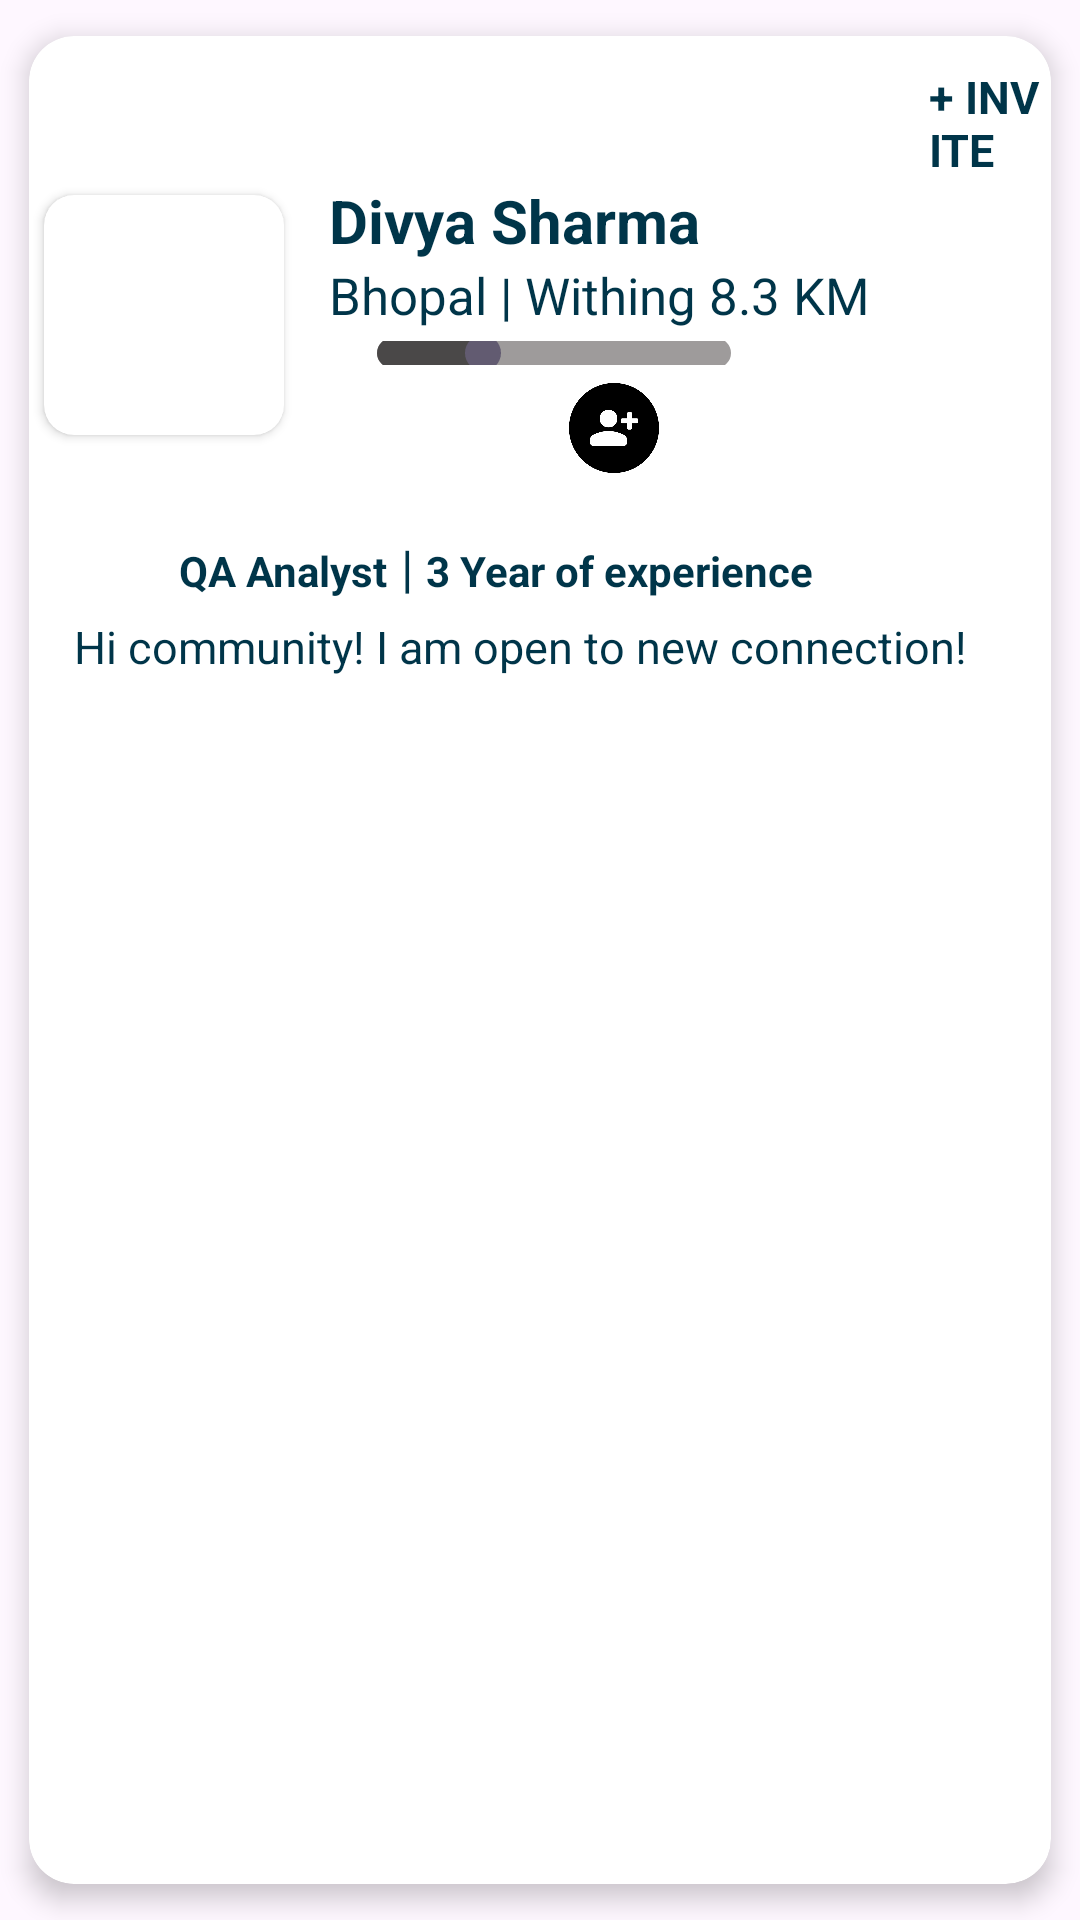

Locate icon controls on the screen. Image size 1080 × 1920, boxes as (left=x1, top=y1, right=x2, bottom=y2).
add contacts: (left=569, top=383, right=659, bottom=473)
